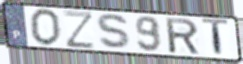9: (134, 15, 164, 53)
O: (28, 7, 63, 48)
R: (164, 16, 202, 56)
S: (95, 12, 134, 51)
T: (200, 17, 230, 59)
Z: (61, 9, 97, 50)
